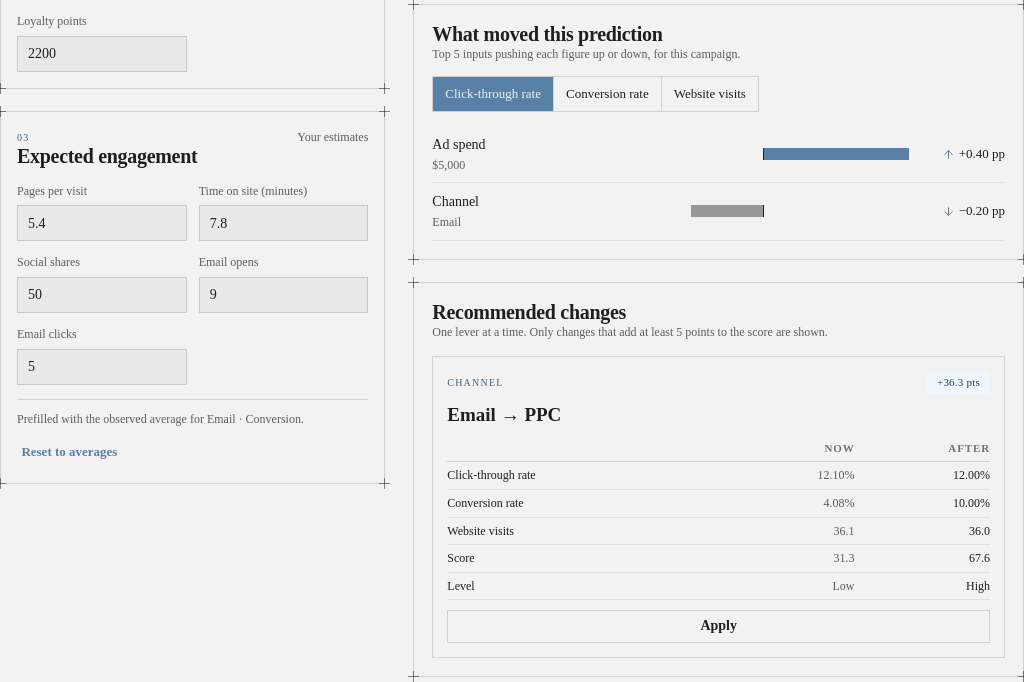
Scenario: PredictView (live results, no Predict button) › applies a recommendation: the field changes and the result is recalculated
The image size is (1024, 682).
(page scrolled)
Click the button "Apply". click: (719, 627)
box: [447,610,990,643]
(page scrolled)
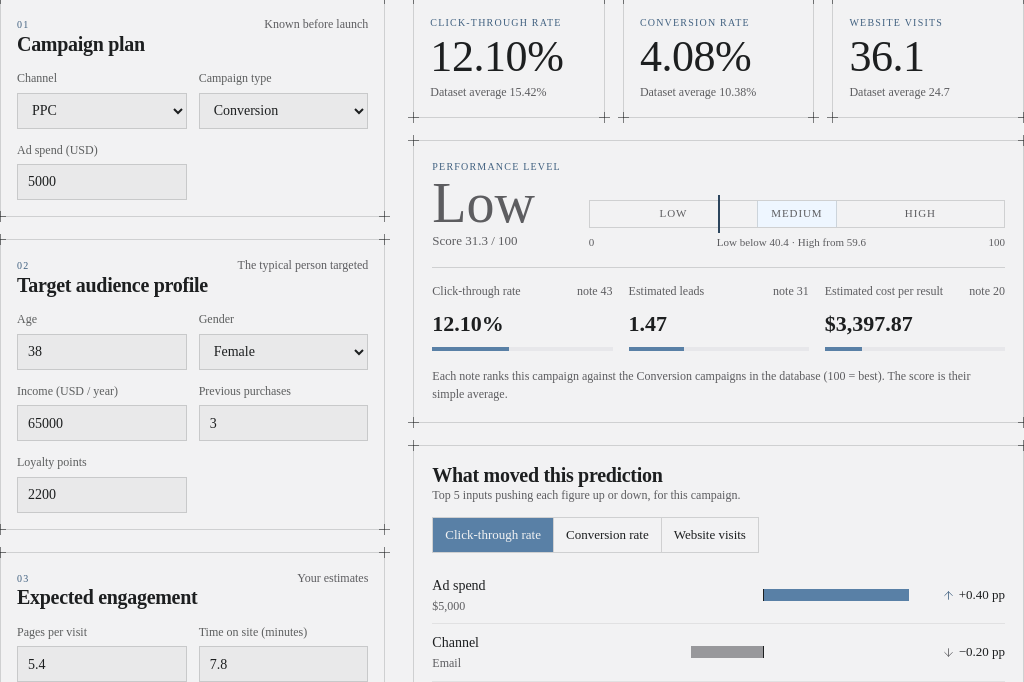
Expected: the dropdown labelled "Channel" shows "PPC", [17,93,187,129]
